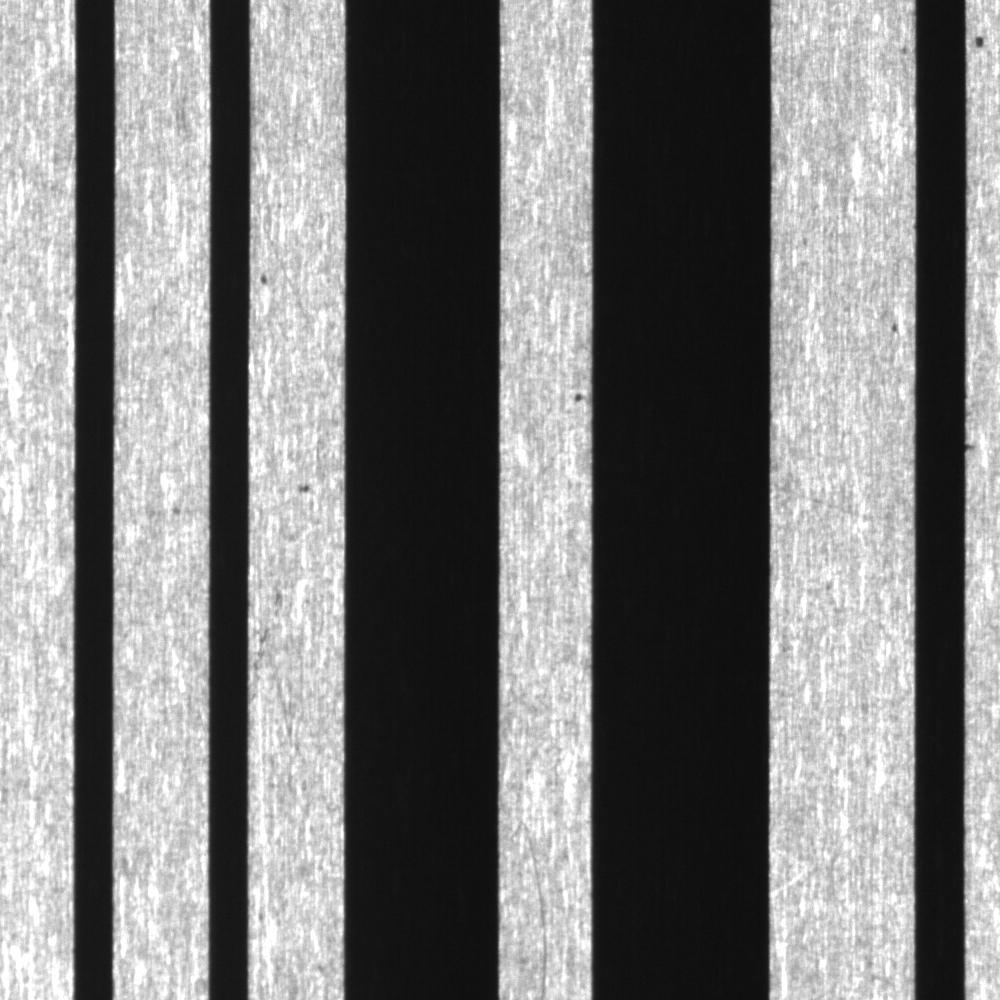Etching: (285, 466, 321, 506), (254, 260, 281, 291), (880, 315, 908, 341)
Pinhole: (968, 25, 990, 53), (568, 383, 591, 407)
Scar: (772, 460, 914, 559), (510, 808, 577, 997)
